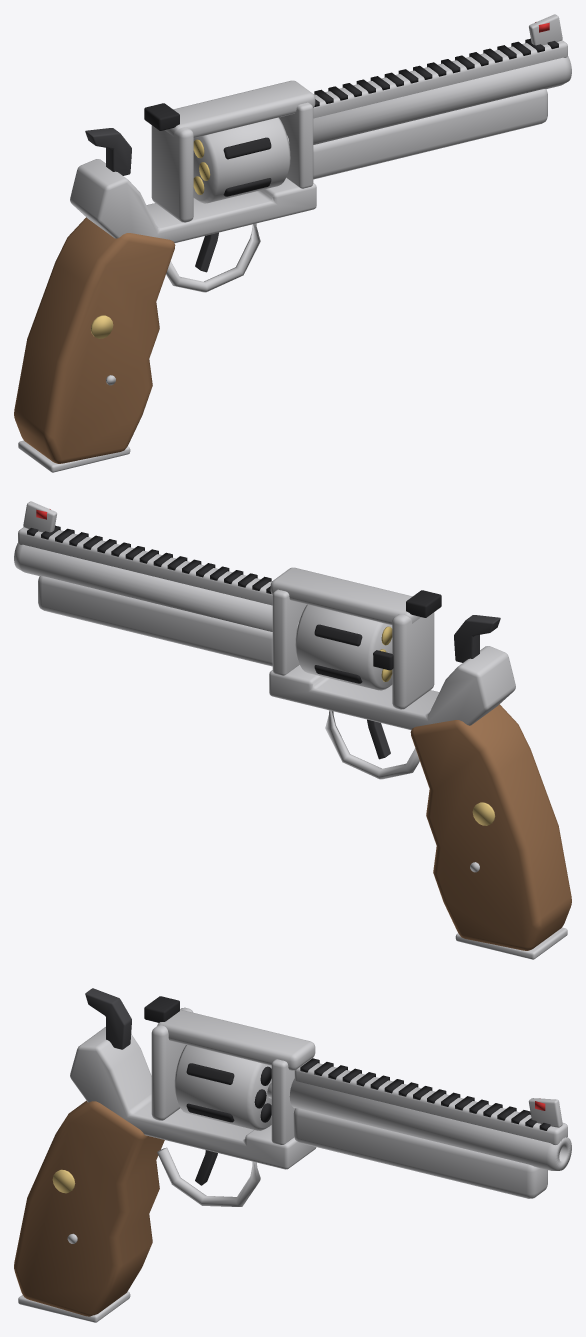
File: SM_Revolver.glb
3 views of the same model, one above another, from view 1: azimuth 30°, elevation 25°; view 2: azimuth 150°, elevation 25°; view 3: azimuth 330°, elevation 25° (orthographic).
Parts seen in each view (by area): view 1: SM_Revolver; view 2: SM_Revolver; view 3: SM_Revolver.
Boxes of the visible parts, bbox=[...] form: SM_Revolver: bbox=[14, 14, 571, 472]; SM_Revolver: bbox=[14, 501, 571, 959]; SM_Revolver: bbox=[14, 988, 571, 1322].
Bounding box in the file's own units: 0.3034 × 0.1735 × 0.042.
